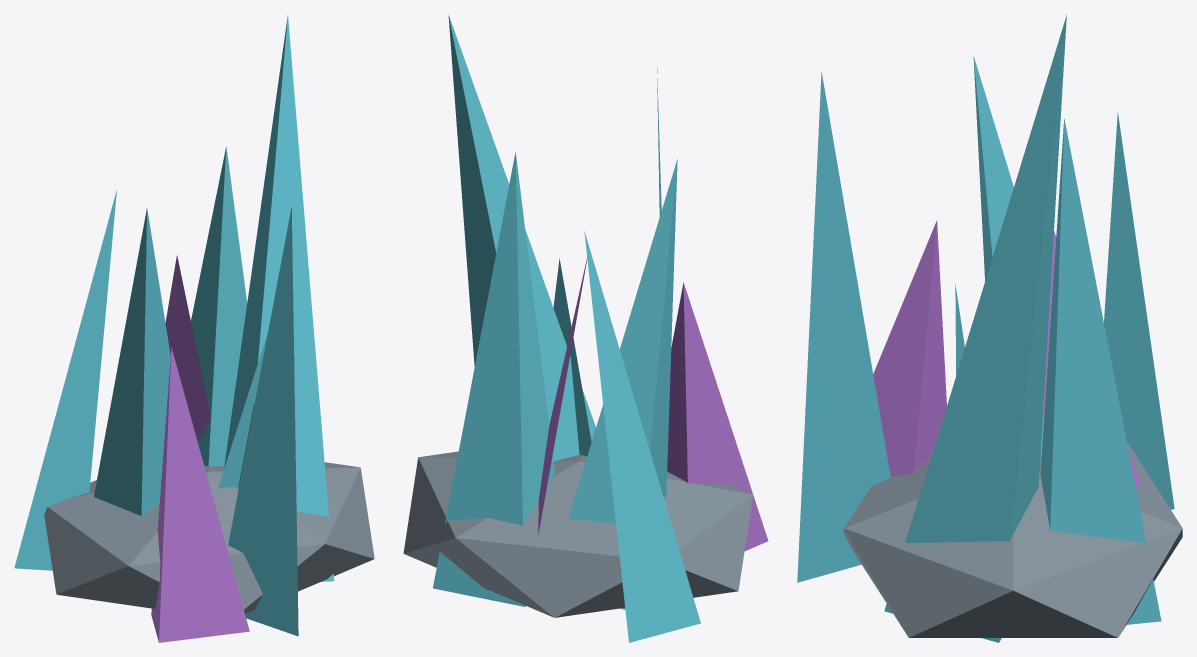
The model's file is Crystal_04_LOD1.fbx.
3 renders of one model, left to right at view 1: azimuth 30°, elevation 25°; view 2: azimuth 150°, elevation 25°; view 3: azimuth 270°, elevation 25°, orthographic. The views are drawn at different scales.
Visible parts, largest first — view 1: Crystal_04_LOD1; view 2: Crystal_04_LOD1; view 3: Crystal_04_LOD1.
Part boxes in pixels (x1,y1,x2,y2): Crystal_04_LOD1: (14, 15, 374, 642); Crystal_04_LOD1: (403, 15, 768, 642); Crystal_04_LOD1: (797, 14, 1182, 642).
Bounding box in the file's own units: 163 × 271 × 145.
